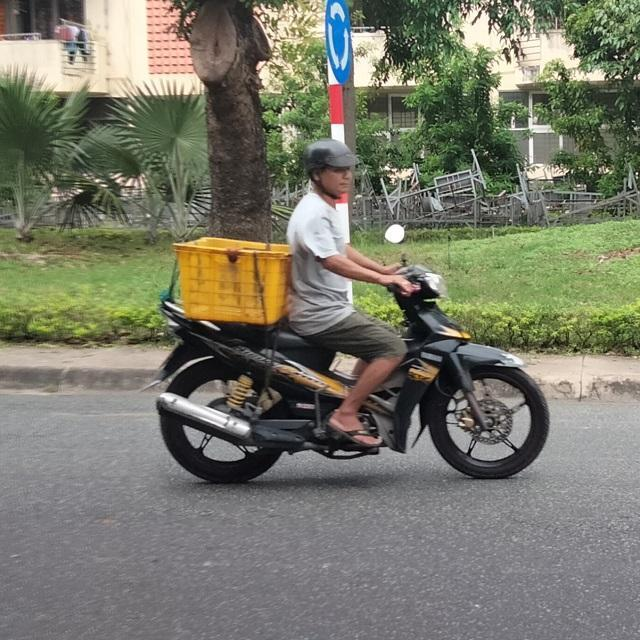Helmet: (302, 134, 360, 204)
